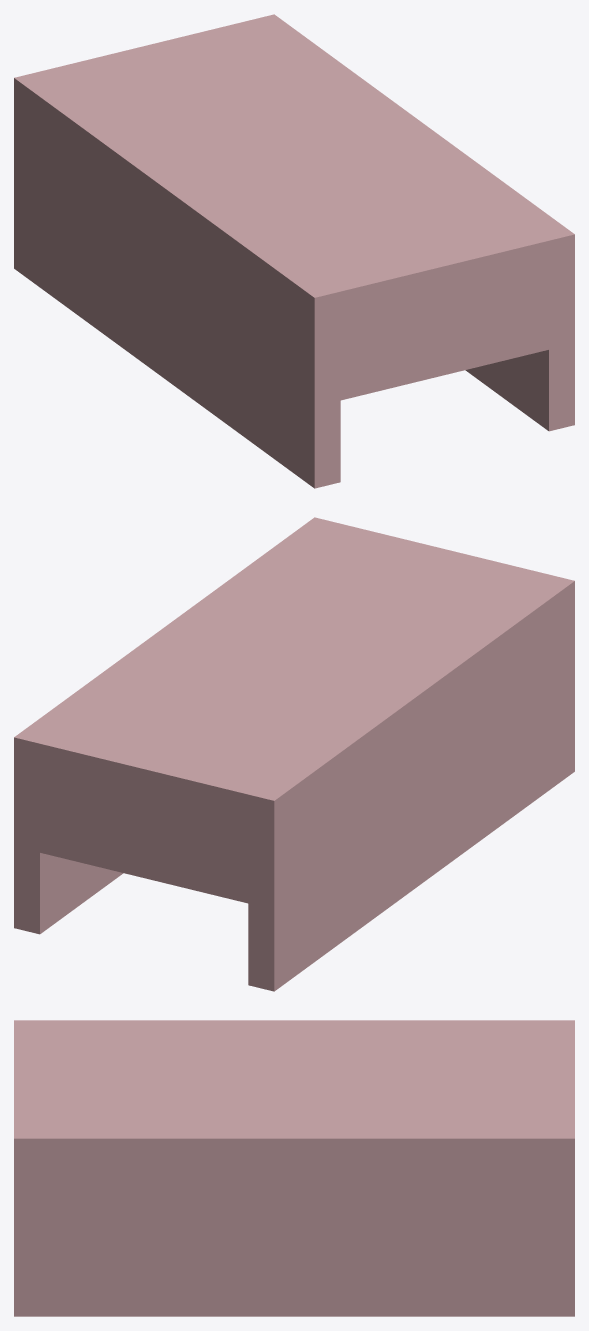
The model's file is tunnel_y_30cm_hole_400cm_len.dae.
3 renders of one model, top to bottom at view 1: azimuth 30°, elevation 25°; view 2: azimuth 150°, elevation 25°; view 3: azimuth 270°, elevation 25°, orthographic. The views are drawn at different scales.
Parts seen in each view (by area): view 1: Cube; view 2: Cube; view 3: Cube.
Boxes of the visible parts, x1=… form: Cube: x1=14, y1=14, x2=574, y2=488; Cube: x1=14, y1=517, x2=574, y2=991; Cube: x1=14, y1=1020, x2=574, y2=1316.
Bounding box in the file's own units: 2 × 4 × 1.4.
